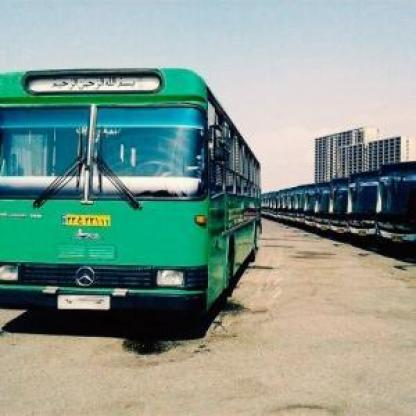Bus: (0, 64, 270, 344), (373, 151, 416, 253), (349, 171, 382, 249), (326, 182, 354, 242), (302, 187, 327, 236), (286, 187, 302, 226), (274, 190, 284, 220)
